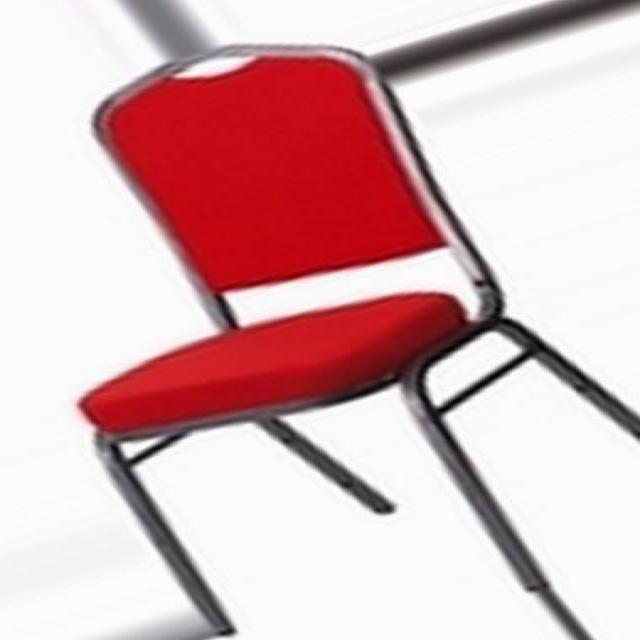Chair: (66, 41, 640, 640)
